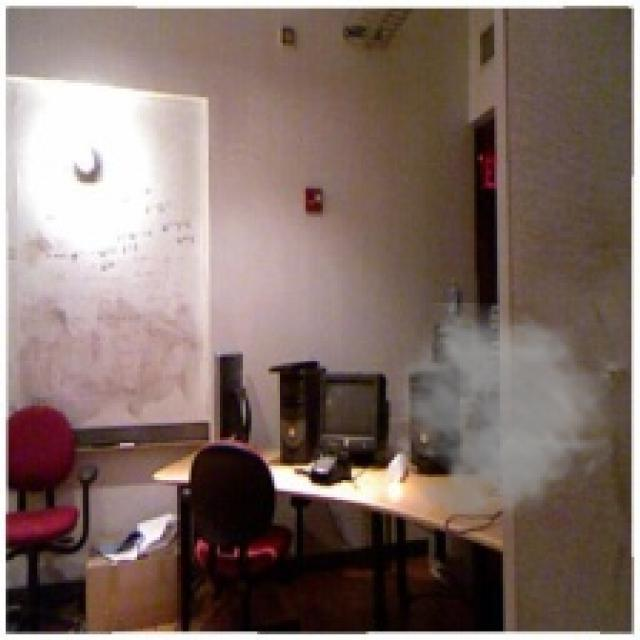Smoke: (388, 302, 620, 534)
